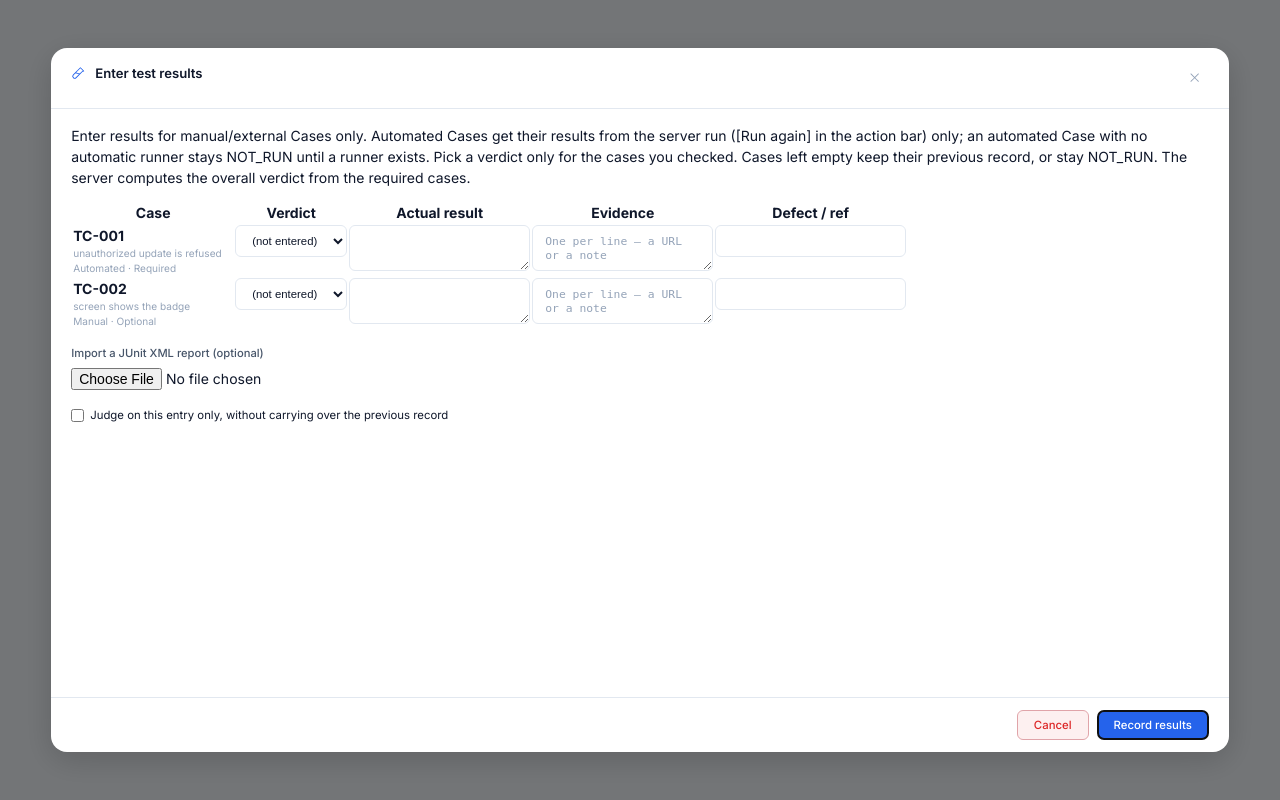
it: TestResultEntryDialog — manual/external/JUnit results share one model › refuses an empty submission locally
The image size is (1280, 800).
Step 1. Click the button "Record results" → coordinates (1153, 725), box left=1097, top=710, right=1209, bottom=740
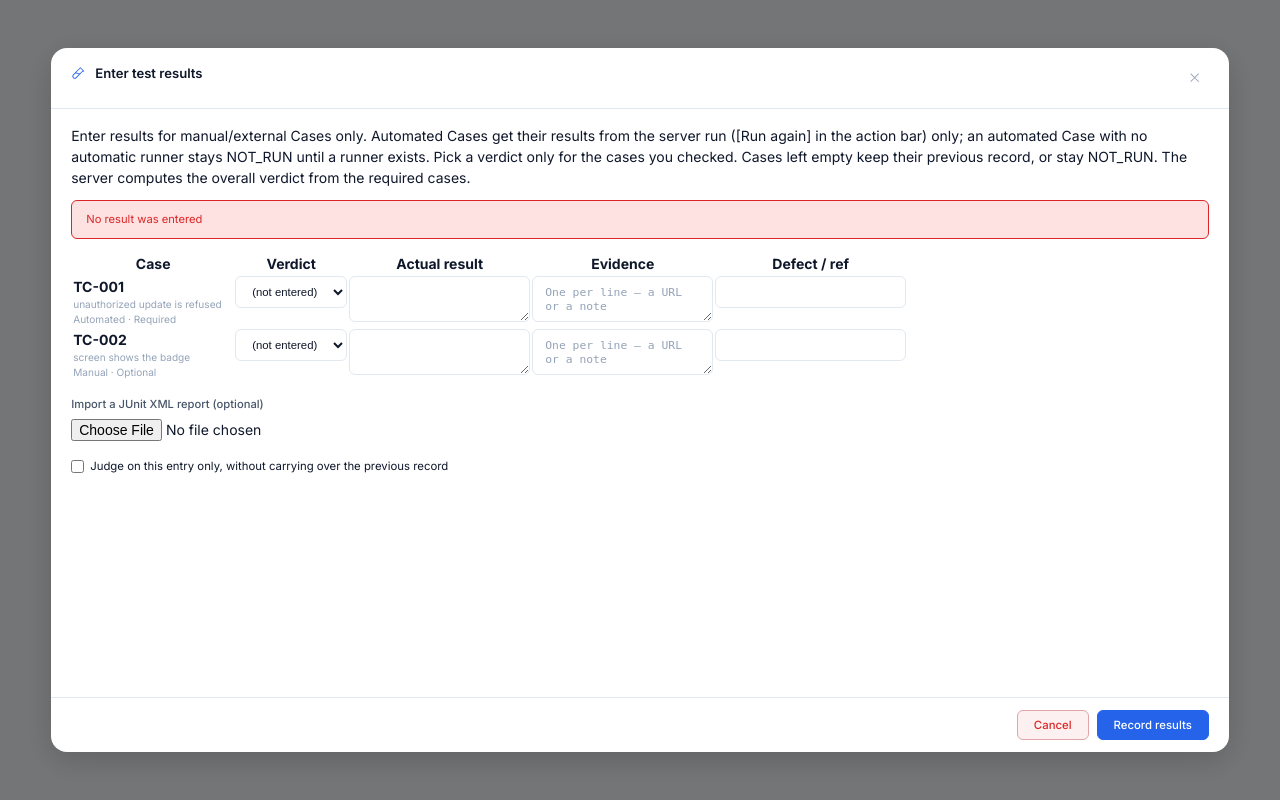
Check: the message with test id "tre-error" reads "No result was entered", box left=86, top=212, right=202, bottom=226
